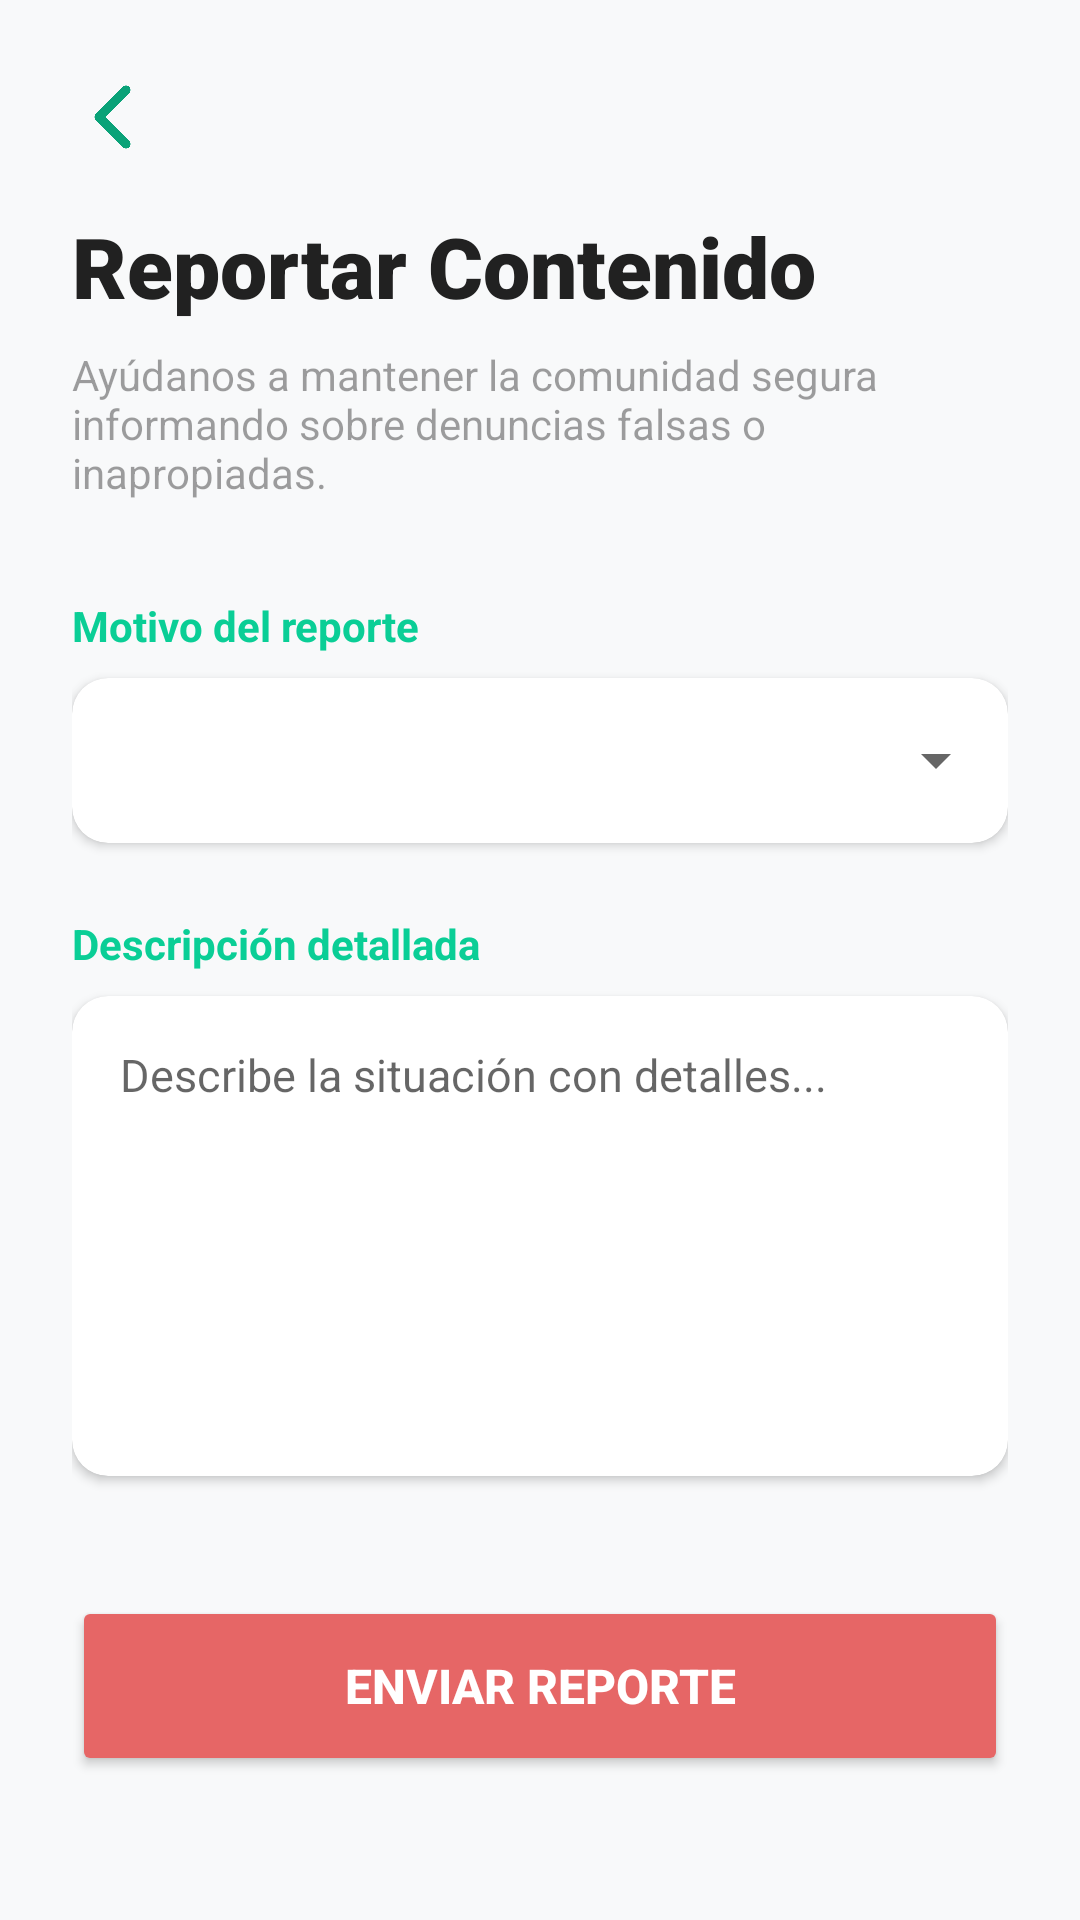

Locate icon controls on the screen. Image size 1080*1920, boxes as (x1,y1,x2,y2).
back: (94,85,131,149)
